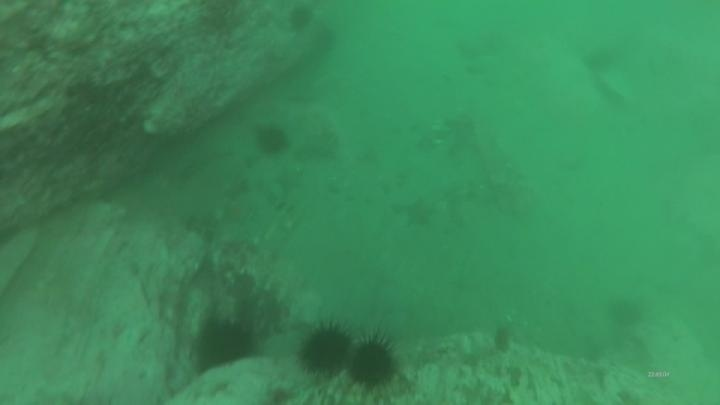echinus: (191, 315, 259, 375), (343, 330, 403, 394), (295, 319, 355, 377), (252, 121, 292, 158), (605, 294, 646, 330), (580, 43, 619, 76), (309, 23, 340, 58), (285, 4, 317, 35), (490, 323, 516, 355)
starfish: (391, 193, 440, 231)
